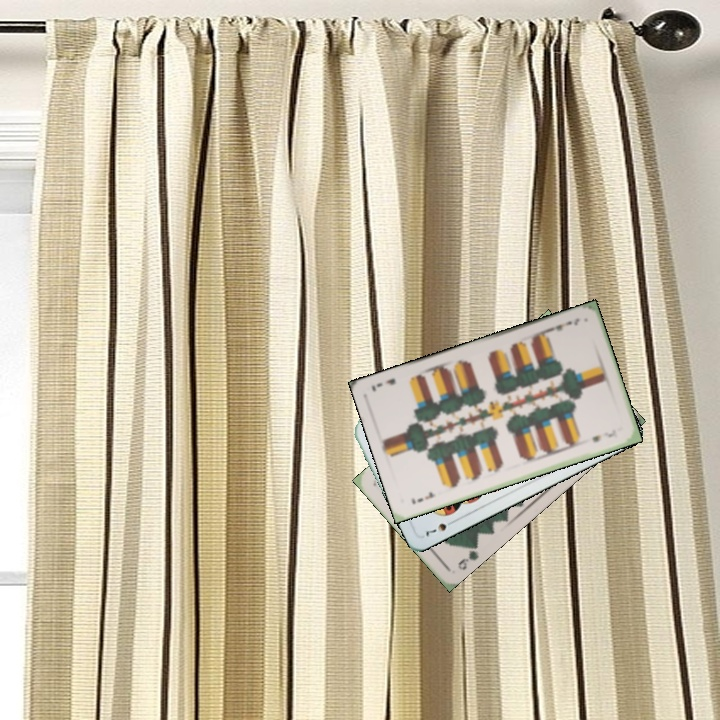E7: (545, 314, 582, 334), (407, 488, 437, 507)
G9: (453, 538, 481, 573)
S7: (421, 516, 458, 539)
